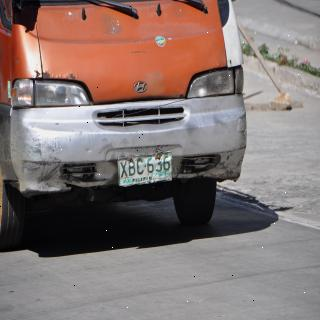license: (119, 153, 173, 187)
